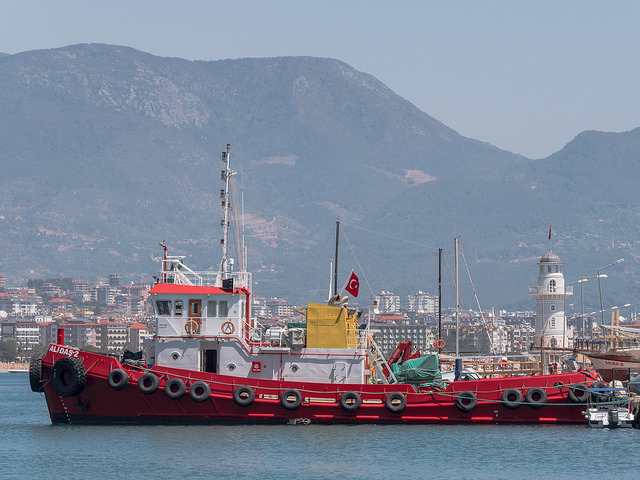tug_boat: (28, 230, 590, 430)
